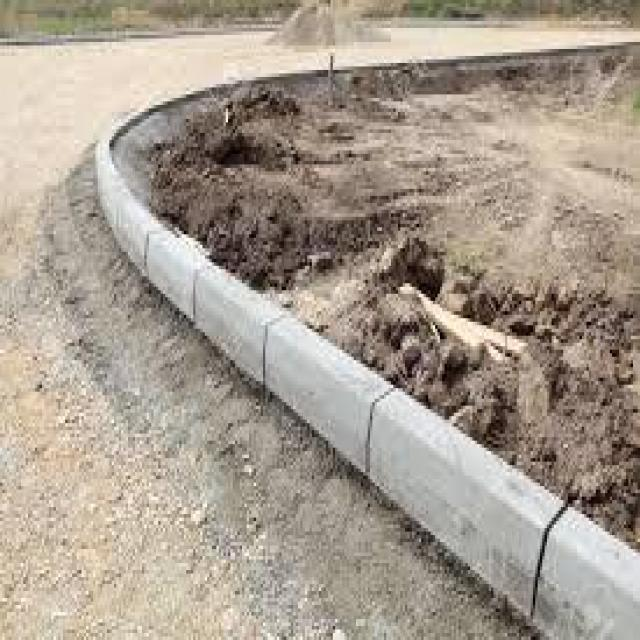bump: (321, 321, 640, 640), (140, 214, 356, 438), (79, 115, 191, 299)
